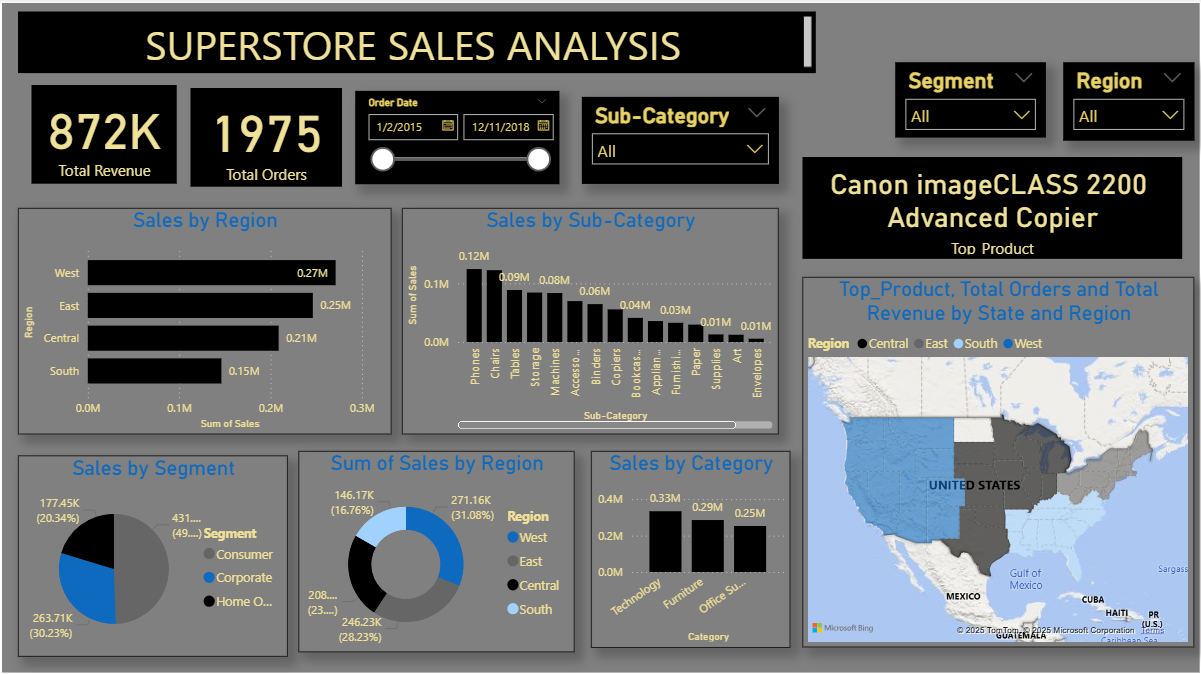

The page's visual inventory and layout, read from the dashboard file:
{"tool":"powerbi","page":{"name":"Page 1","canvas":[1280,720],"ordinal":0},"visuals":[{"type":"image","box":[0,0,1280.4,720.5],"z":0},{"type":"card","fields":{"Values":["train.Total Revenue"]},"box":[36.6,92.3,154.3,105],"z":1000},{"type":"card","fields":{"Values":["train.Total Orders"]},"box":[205.2,95.4,160.7,105],"z":2000},{"type":"barChart","title":"Sales by Region","fields":{"Category":["train.Region"],"Y":["Sum(train.Sales)"]},"box":[22.3,222.7,396.1,240.2],"z":4000},{"type":"columnChart","title":"Sales by Sub-Category","fields":{"Y":["Sum(train.Sales)"],"Category":["train.Sub-Category"]},"box":[429.5,222.7,399.2,240.2],"z":5000},{"type":"columnChart","title":"Sales by Category","fields":{"Category":["train.Category"],"Y":["Sum(train.Sales)"]},"box":[629.9,480.4,211.6,208.4],"z":6000},{"type":"pieChart","title":"Sales by Segment","fields":{"Y":["Sum(train.Sales)"],"Category":["train.Segment"]},"box":[22.3,485.1,286.3,213.1],"z":7000},{"type":"donutChart","fields":{"Y":["Sum(train.Sales)"],"Category":["train.Region"]},"box":[319.7,480.4,292.7,213.1],"z":8000},{"type":"filledMap","fields":{"Category":["train.State"],"Series":["train.Region"]},"box":[854.2,295.9,415.1,392.9],"z":9000},{"type":"slicer","fields":{"Values":["train.Order Date"]},"box":[380.2,98.6,216.3,98.6],"z":10000},{"type":"slicer","fields":{"Values":["train.Sub-Category"]},"box":[620.3,105,208.4,92.3],"z":10001},{"type":"slicer","fields":{"Values":["train.Region"]},"box":[1130.9,68.4,138.4,82.7],"z":10002},{"type":"card","fields":{"Values":["train.Top_Product"]},"box":[854.2,168.6,402.4,108.2],"z":10003},{"type":"slicer","fields":{"Values":["train.Segment"]},"box":[952.8,68.4,159.1,79.5],"z":10004},{"type":"textbox","box":[22.3,14.3,846.2,65.2],"z":10005}]}

Visuals, with their boxes in screenshot pixels (x1, y1, x2, y2), scaled from the page's 1280x720 canvas onto the 1201x674 screenshot:
image: select_region(0, 0, 1200, 673)
card - train.Total Revenue: select_region(34, 86, 179, 185)
card - train.Total Orders: select_region(193, 89, 343, 188)
"Sales by Region" barChart: select_region(21, 208, 393, 433)
"Sales by Sub-Category" columnChart: select_region(403, 208, 778, 433)
"Sales by Category" columnChart: select_region(591, 450, 790, 645)
"Sales by Segment" pieChart: select_region(21, 454, 290, 654)
donutChart - Sum(train.Sales) x train.Region: select_region(300, 450, 575, 649)
filledMap - train.State x train.Region: select_region(801, 277, 1191, 645)
slicer - train.Order Date: select_region(357, 92, 560, 185)
slicer - train.Sub-Category: select_region(582, 98, 778, 185)
slicer - train.Region: select_region(1061, 64, 1191, 141)
card - train.Top_Product: select_region(801, 158, 1179, 259)
slicer - train.Segment: select_region(894, 64, 1043, 138)
textbox: select_region(21, 13, 815, 74)
